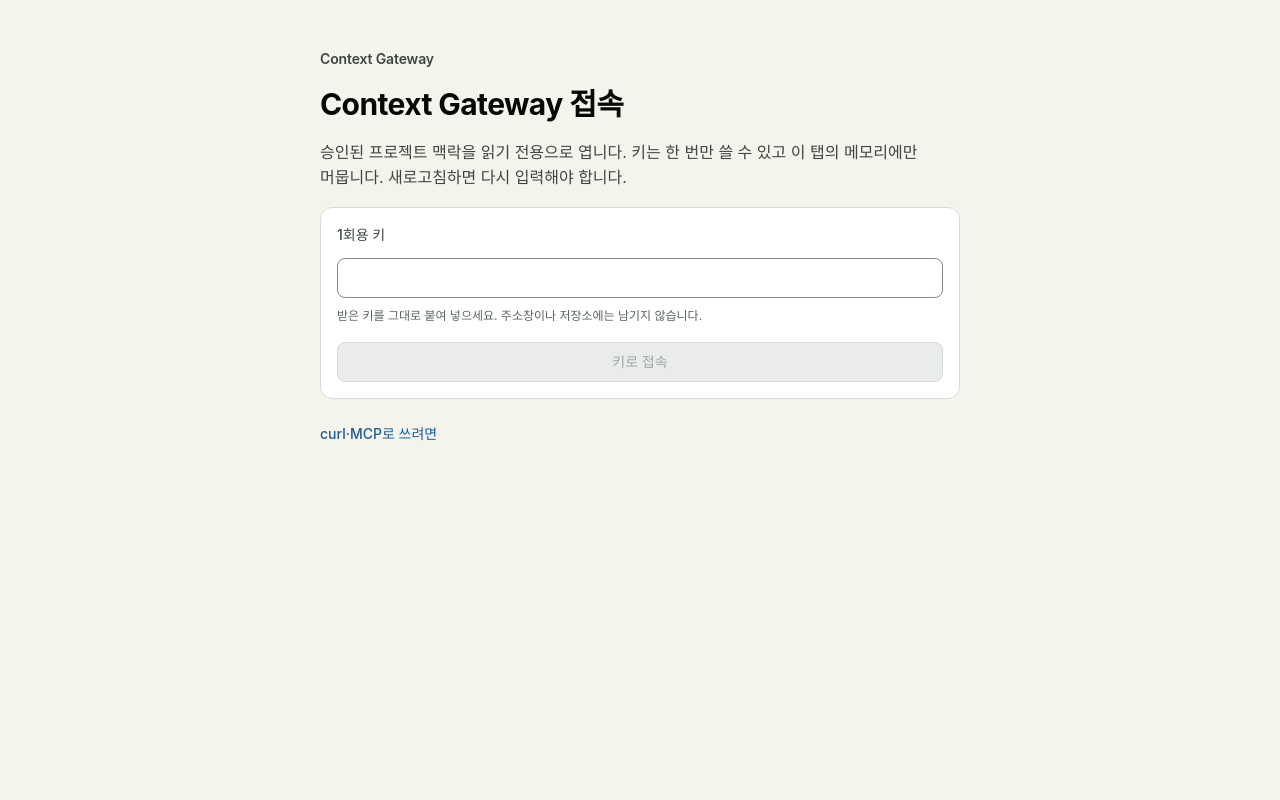
로그인과 정상 조회 › 스냅샷을 바꾸면 그 스냅샷의 문서를 읽고 verified_at이 null이면 미검증으로 표시한다
In the password field labelled "1회용 키": (640,278) x1=337 y1=258 x2=943 y2=298, type "synthetic-one-time-key-0001"
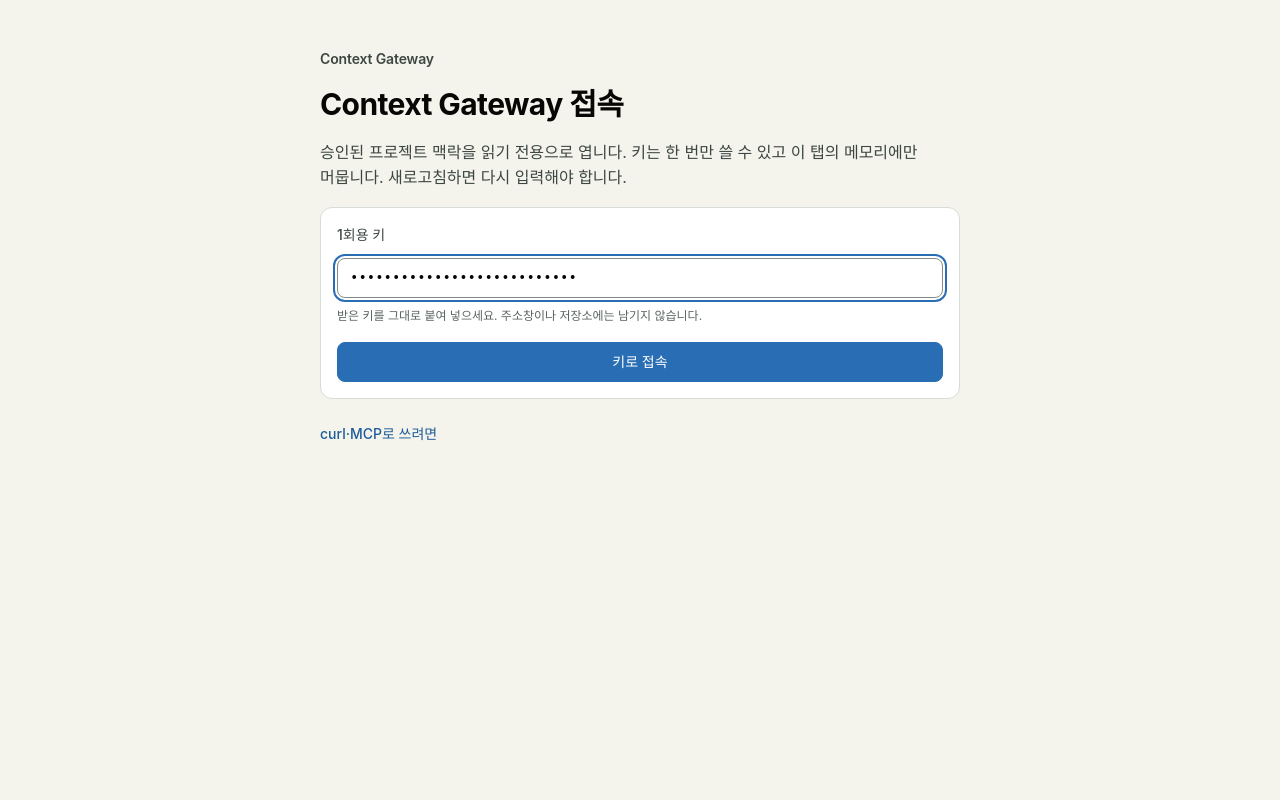
Click the button "키로 접속": (640,362) x1=337 y1=342 x2=943 y2=382
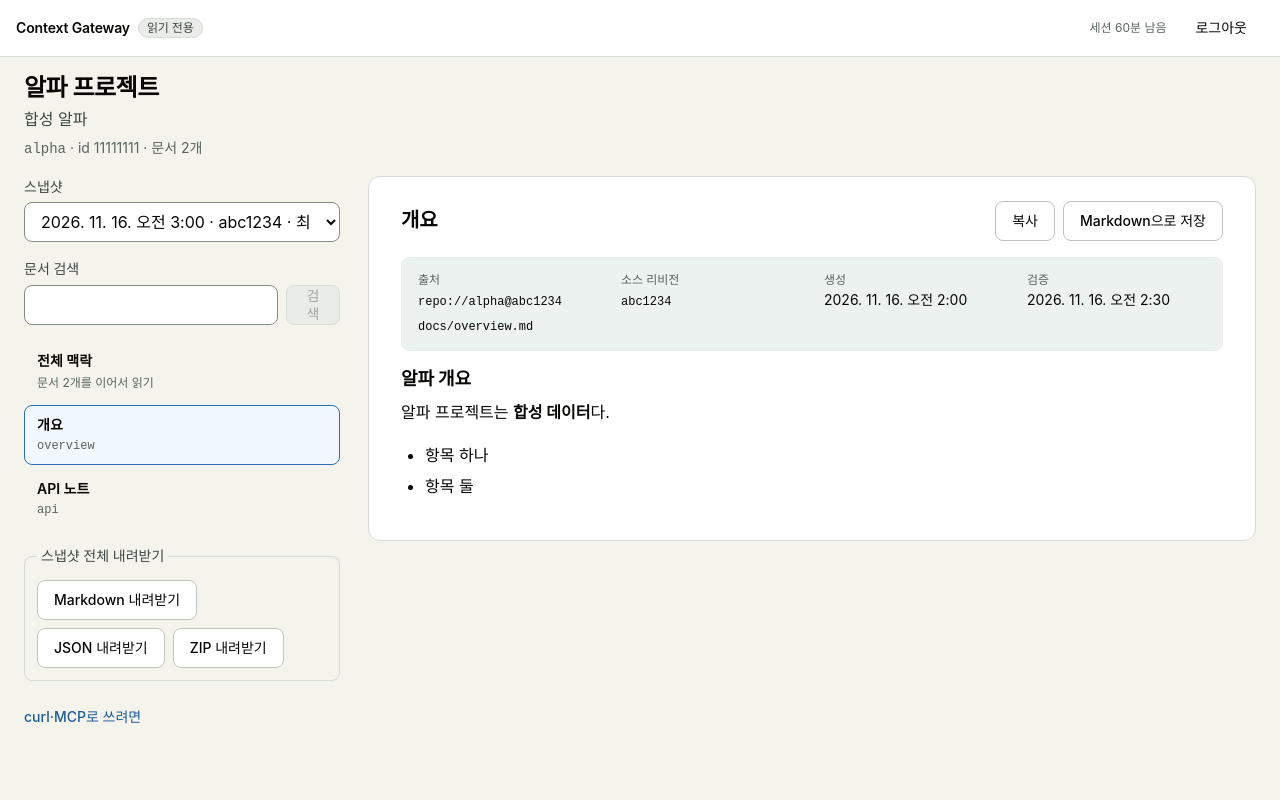
expect the heading "알파 프로젝트" is shown: met, box x1=24 y1=73 x2=159 y2=102
expect the text "합성 데이터" is shown: met, box x1=513 y1=402 x2=590 y2=422
Select "aaaaaaaa-aaaa-4aaa-8aaa-aaaaaaaaaaa1" in the dropdown labelled "스냅샷": (182,222) x1=24 y1=202 x2=340 y2=242
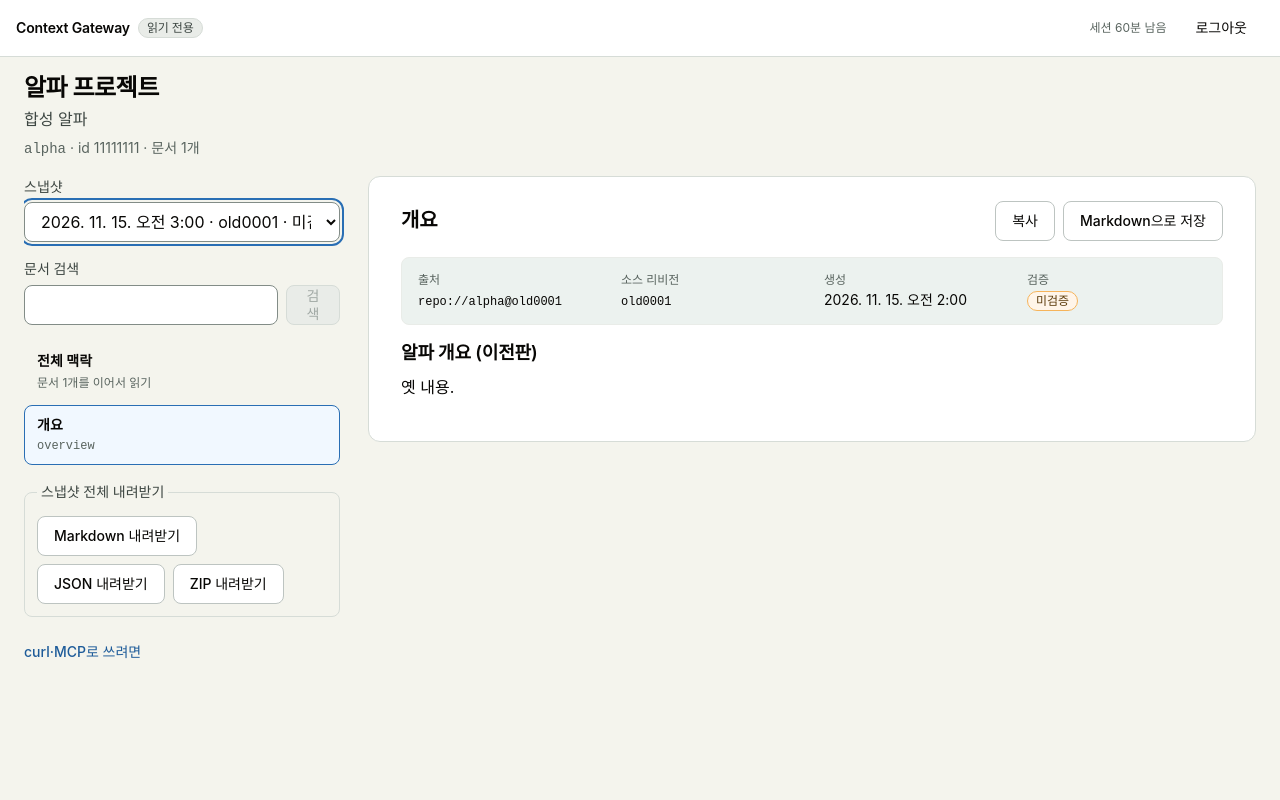
expect the heading "알파 개요 (이전판)" is shown: met, box x1=401 y1=342 x2=538 y2=363
expect the text "미검증" is shown: met, box x1=1027 y1=291 x2=1078 y2=311
